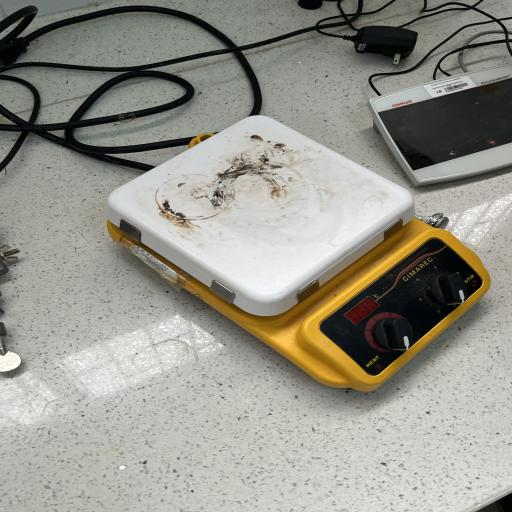Plancha_Agitacion_Cimarec: (84, 108, 494, 406)
